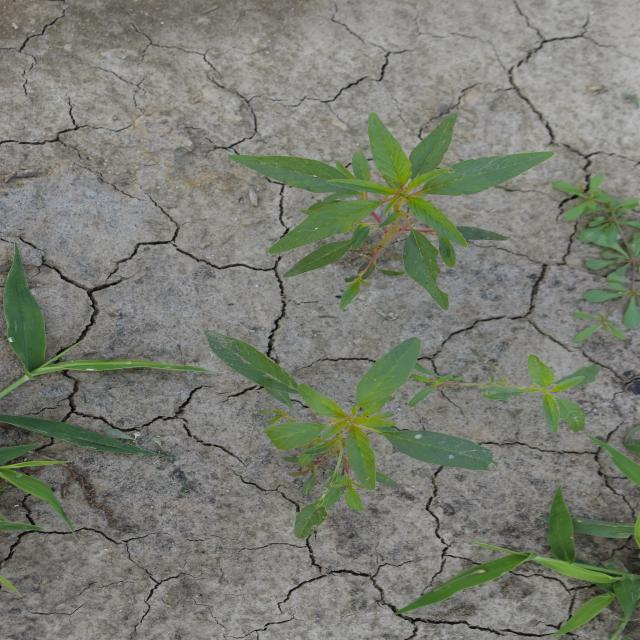Carpetweed: (550, 171, 638, 345)
Waterhemp: (223, 109, 558, 313), (204, 330, 502, 542), (407, 352, 601, 436)
